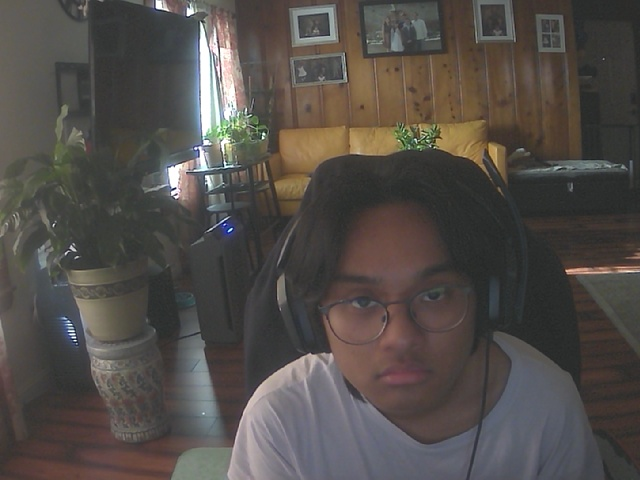neutral: (319, 196, 483, 419)
